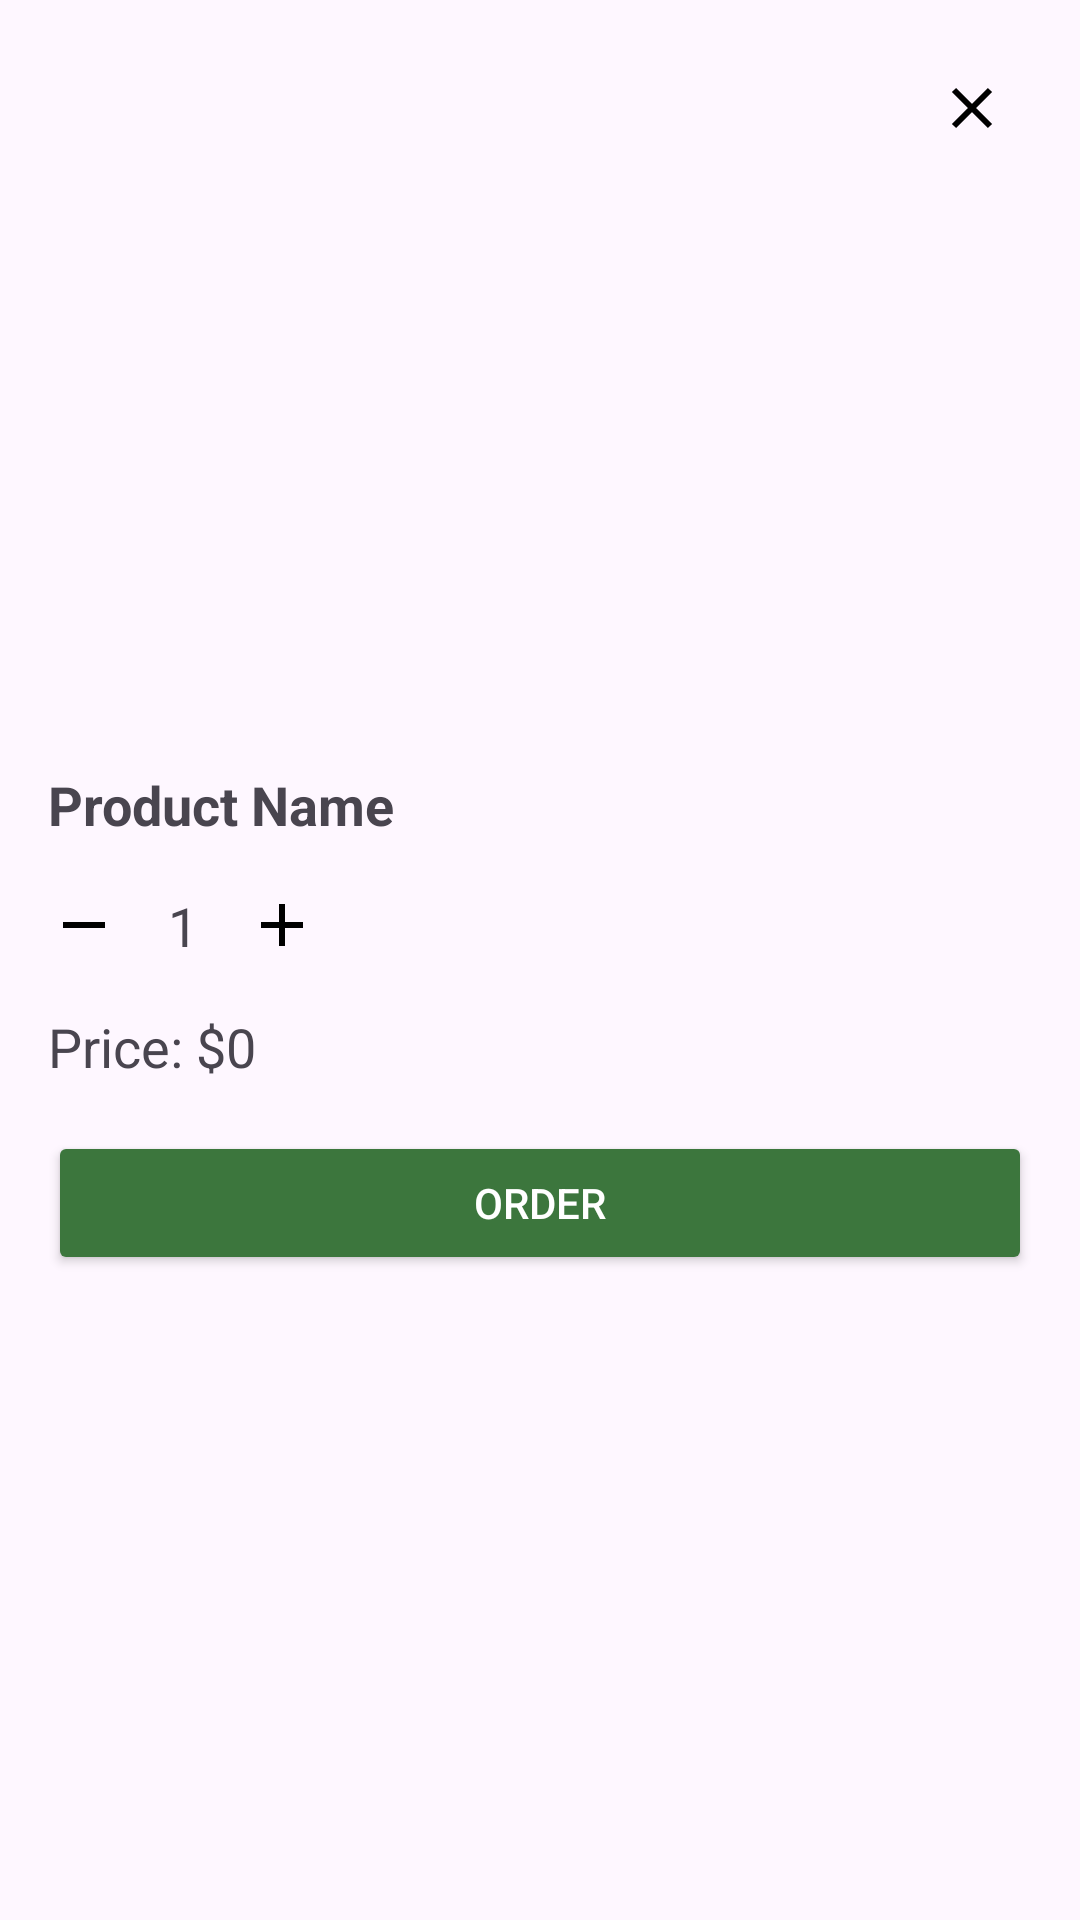

Where to tap for icons on this 1080*1920 app screen, as (x,y):
close: (972,108)
plus: (282,925)
